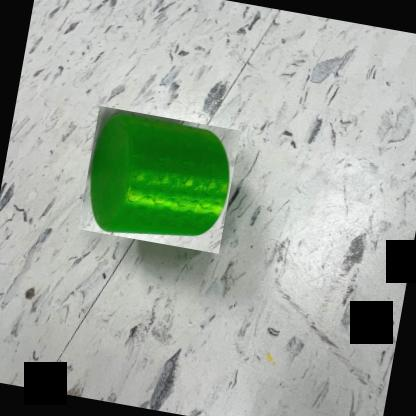green cylinder: (77, 106, 240, 254)
